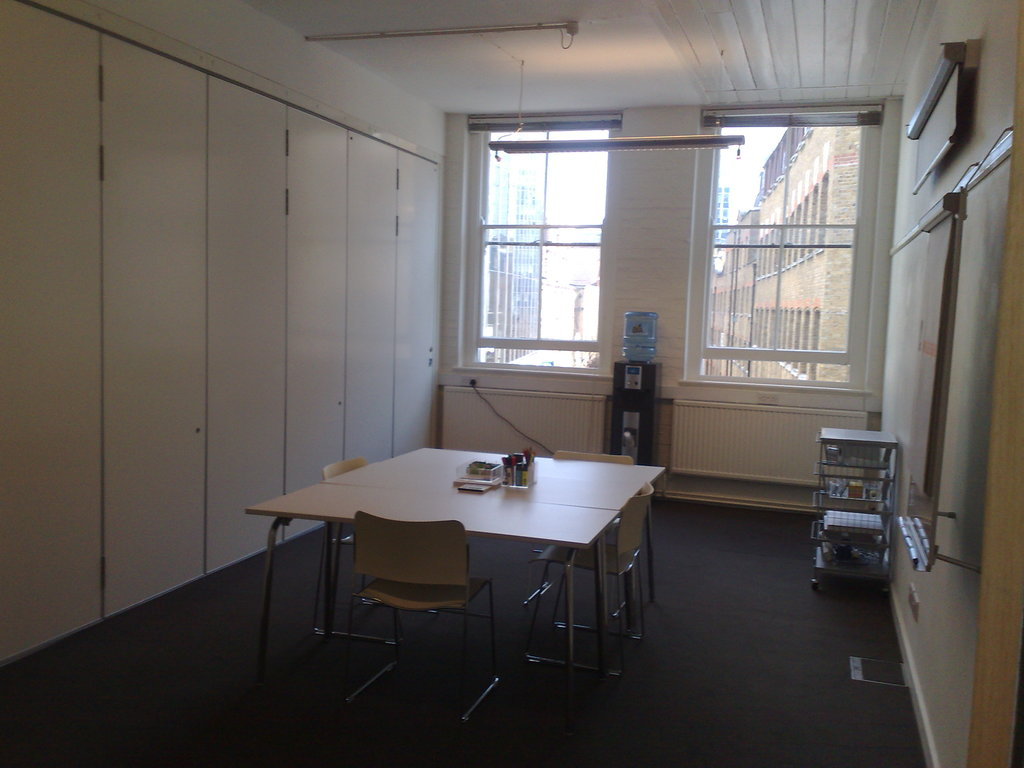Table: (324, 447, 666, 684)
